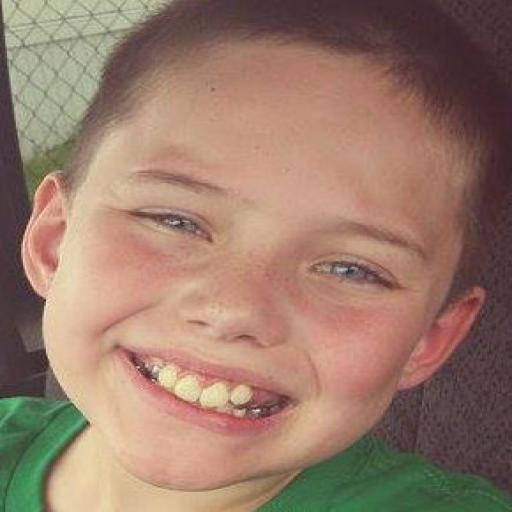Autism: (27, 2, 512, 495)
